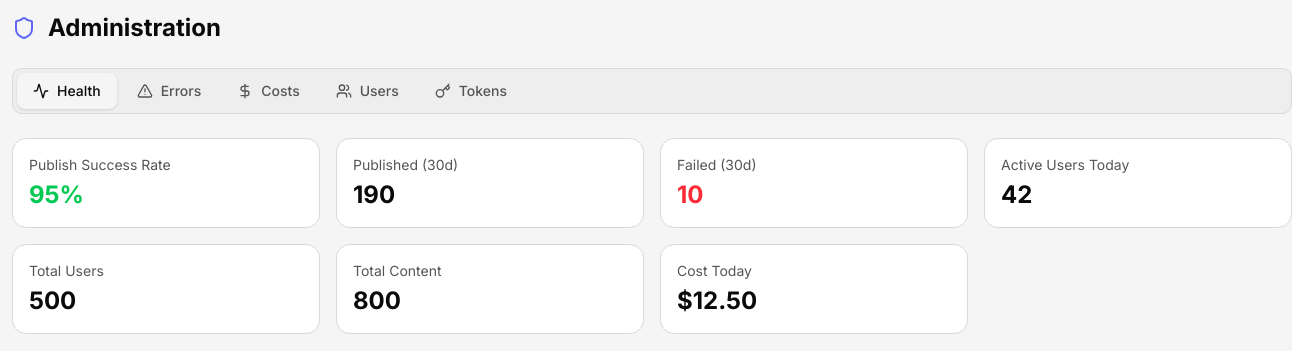
AdminPage › renders Errors tab with table
expect the text "Publish Success Rate" is shown: met, box [29,156,171,173]
What coordinates should you click on to do the following:
click the button "Errors"
I would click on:
 (169, 91)
Its box is [121,73,217,109].
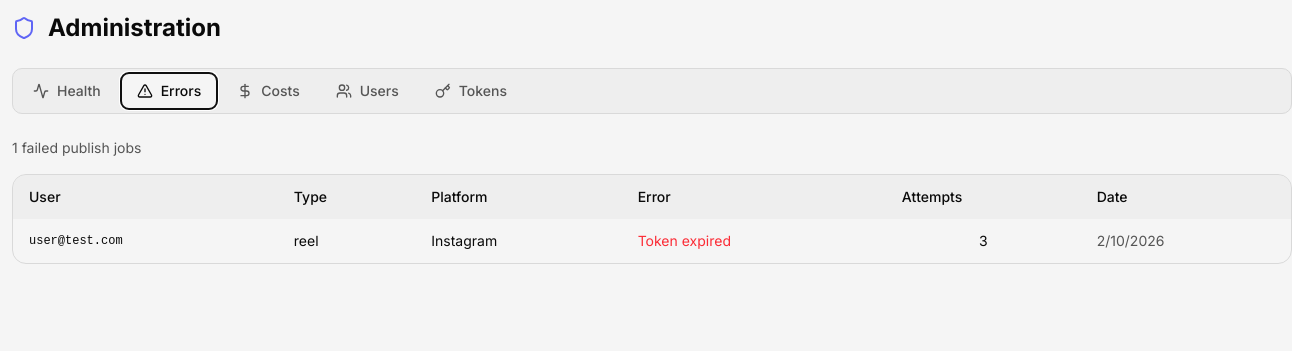
expect the text "1 failed publish jobs" is shown: met, box [12,139,142,156]
expect the text "user@test.com" is shown: met, box [13,219,278,263]
expect the text "Token expired" is shown: met, box [622,219,886,263]
